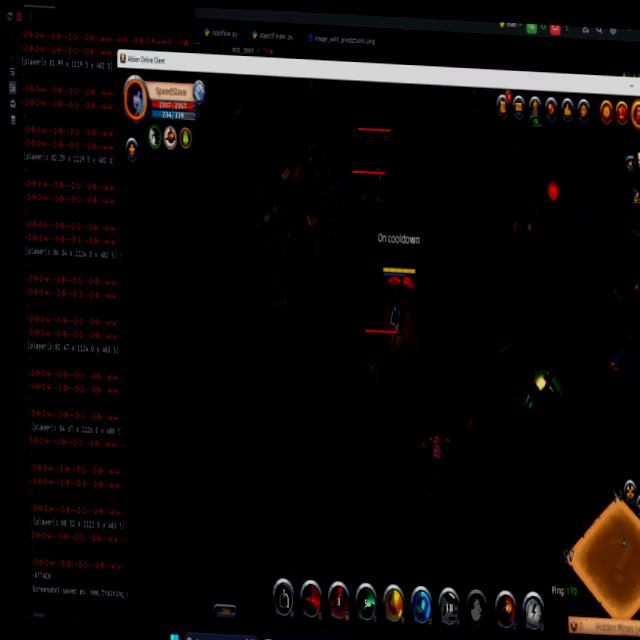ore: (353, 322, 403, 408), (352, 121, 392, 198), (509, 199, 551, 264), (351, 164, 388, 234), (457, 88, 482, 143), (428, 88, 448, 123)
red: (379, 261, 421, 340)
